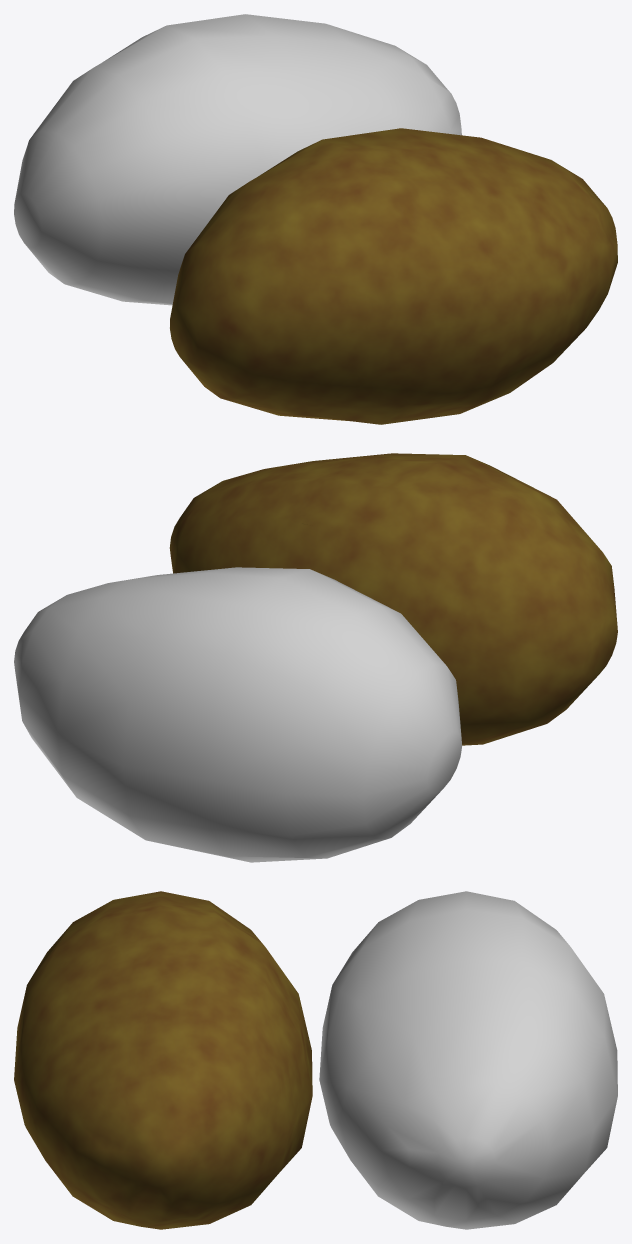
File: MC_Potato.fbx
3 renders of one model, top to bottom at view 1: azimuth 30°, elevation 25°; view 2: azimuth 150°, elevation 25°; view 3: azimuth 270°, elevation 25°, orthographic. The views are drawn at different scales.
Parts seen in each view (by area): view 1: Sphere, Sphere.001; view 2: Sphere.001, Sphere; view 3: Sphere, Sphere.001.
Boxes of the visible parts, box(x1,y1,x2,y2) form: Sphere: box(170, 128, 617, 424); Sphere.001: box(14, 14, 461, 305); Sphere.001: box(14, 567, 462, 862); Sphere: box(169, 453, 617, 745); Sphere: box(14, 891, 312, 1229); Sphere.001: box(319, 891, 617, 1229).
Size of the model in its own units: 320 by 194 by 402.
